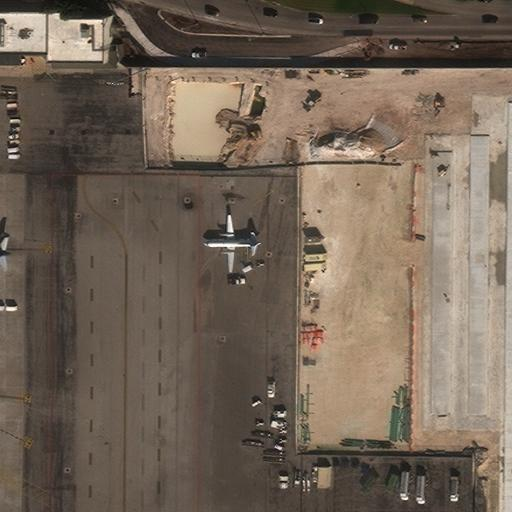Medium Civil Transport: (203, 213, 262, 274)
